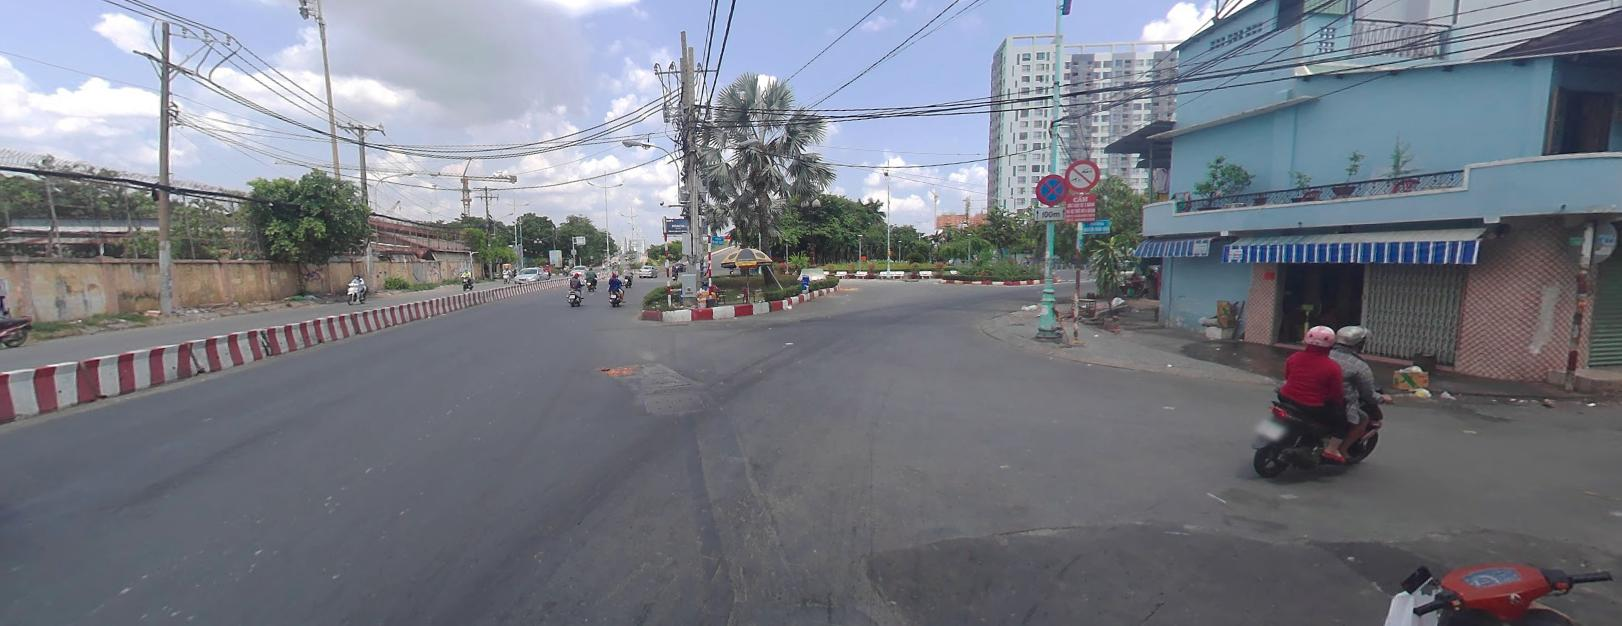Cam con lai: (1063, 158, 1101, 190)
Cam dung va do: (1034, 171, 1067, 205)
